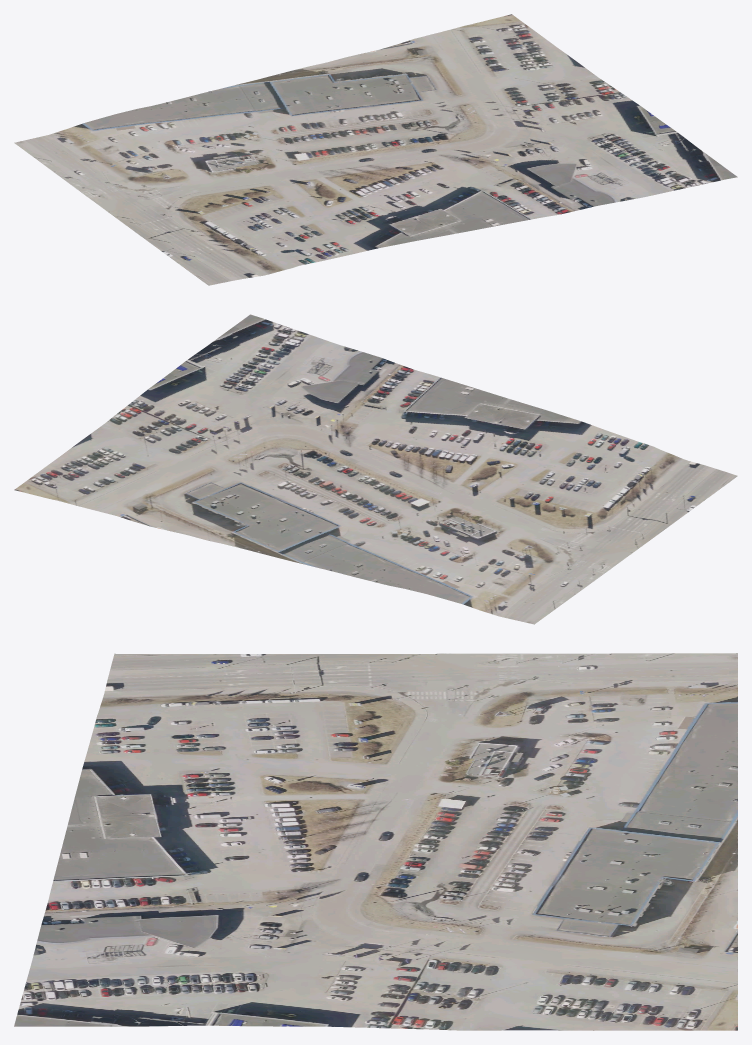
File: CM_Terrain_24487387_6818770.fbx
3 views of the same model, one above another, from view 1: azimuth 30°, elevation 25°; view 2: azimuth 150°, elevation 25°; view 3: azimuth 270°, elevation 25° (orthographic). The views are drawn at different scales.
Visible parts, largest first — view 1: CM_Terrain_24487387_6818770_LOD0; view 2: CM_Terrain_24487387_6818770_LOD0; view 3: CM_Terrain_24487387_6818770_LOD0.
Boxes of the visible parts, bbox=[...] form: CM_Terrain_24487387_6818770_LOD0: bbox=[14, 14, 737, 285]; CM_Terrain_24487387_6818770_LOD0: bbox=[14, 314, 737, 624]; CM_Terrain_24487387_6818770_LOD0: bbox=[14, 653, 737, 1030].
Size of what is drawn, in the model's own units: 205 by 4.48 by 161.
